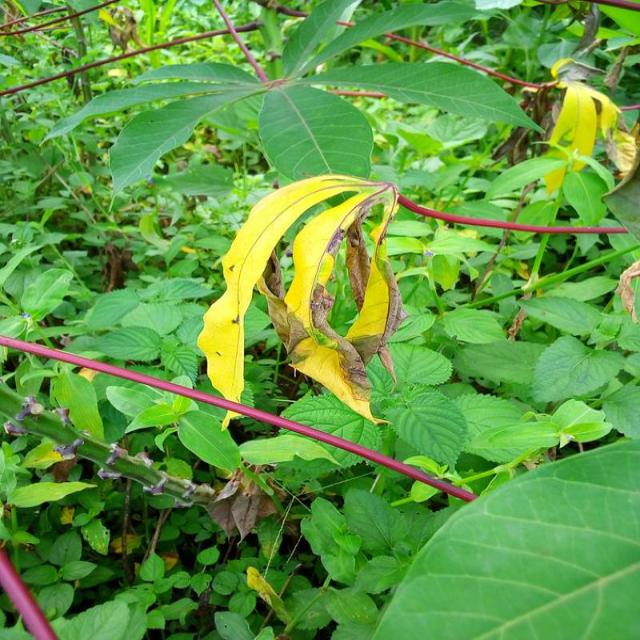cassava leaf: (369, 436, 638, 638), (196, 172, 406, 430), (256, 81, 374, 190)
